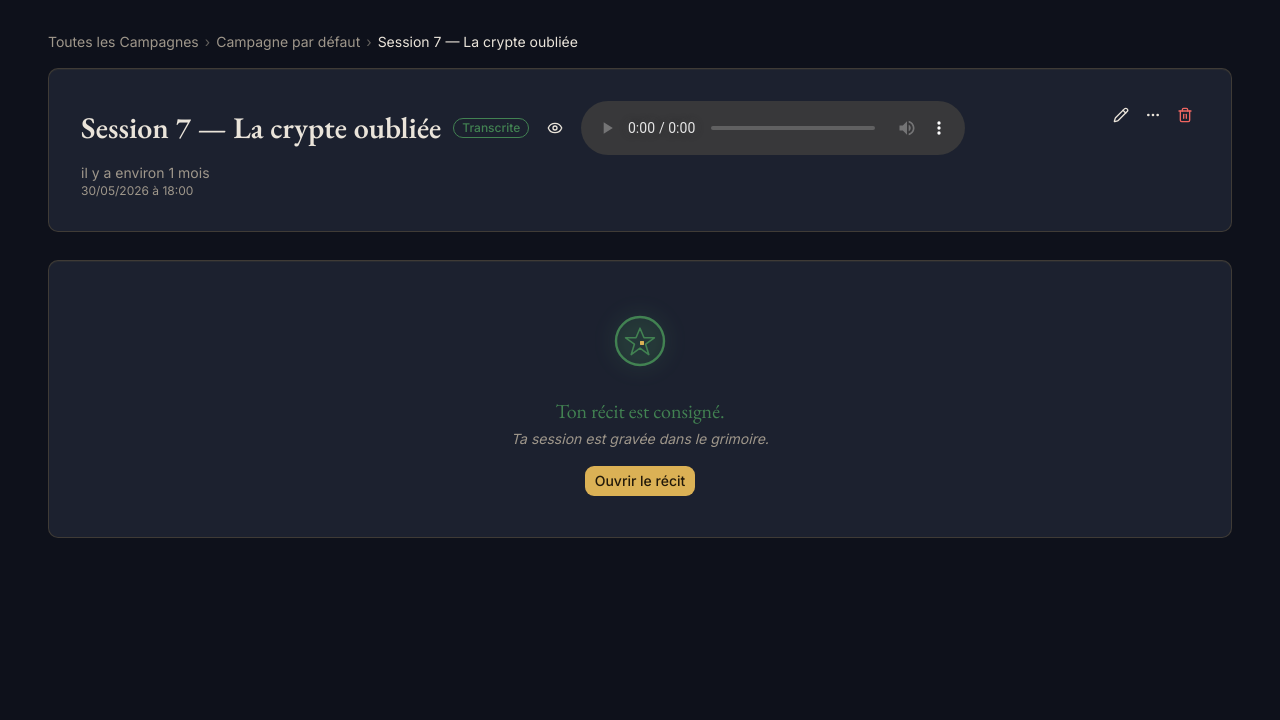
Test: /jdr/campaigns/[campId]/sessions/[sid] page › Story 4.13 / 4.21 — Transcription viewer (in pop-up) › renders sorted chunks for a transcribed non_diarised session
Click the button named "Afficher la transcription": [555, 128] box [541,114,569,142]
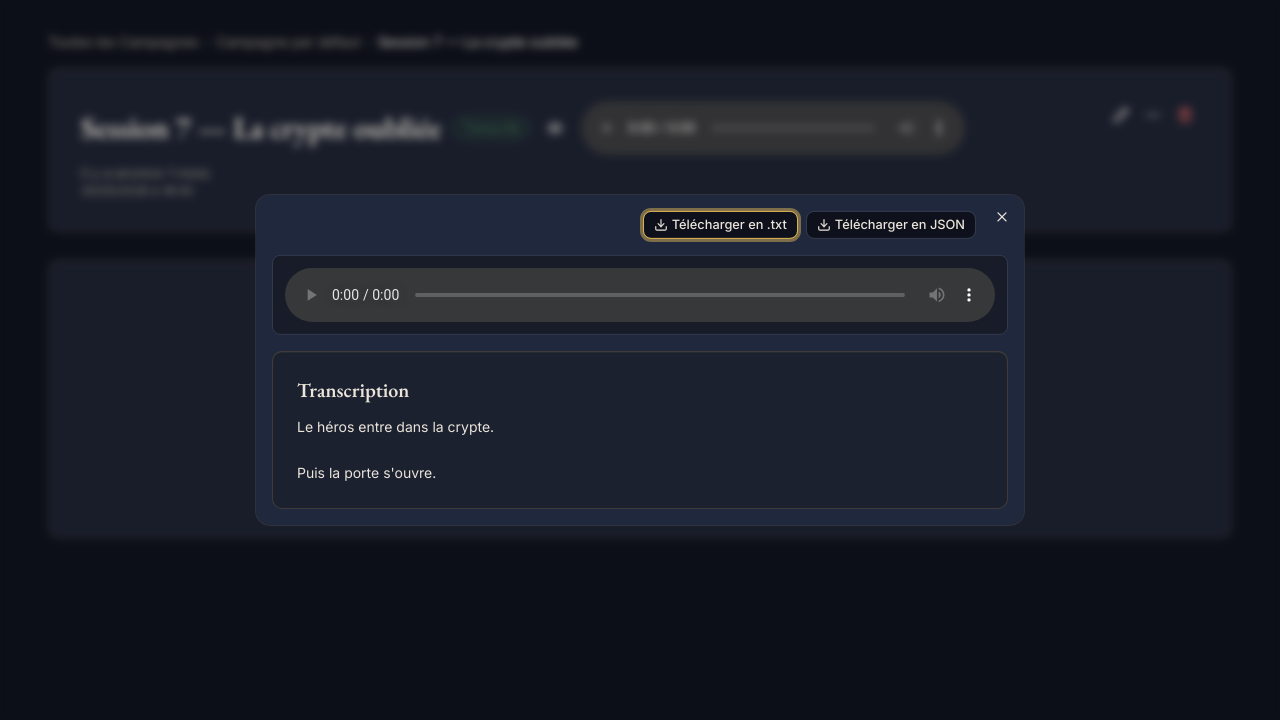
Expected: the text "Le héros entre dans la crypte. Puis la porte s'ouvre." is shown, [297,418,494,480]
